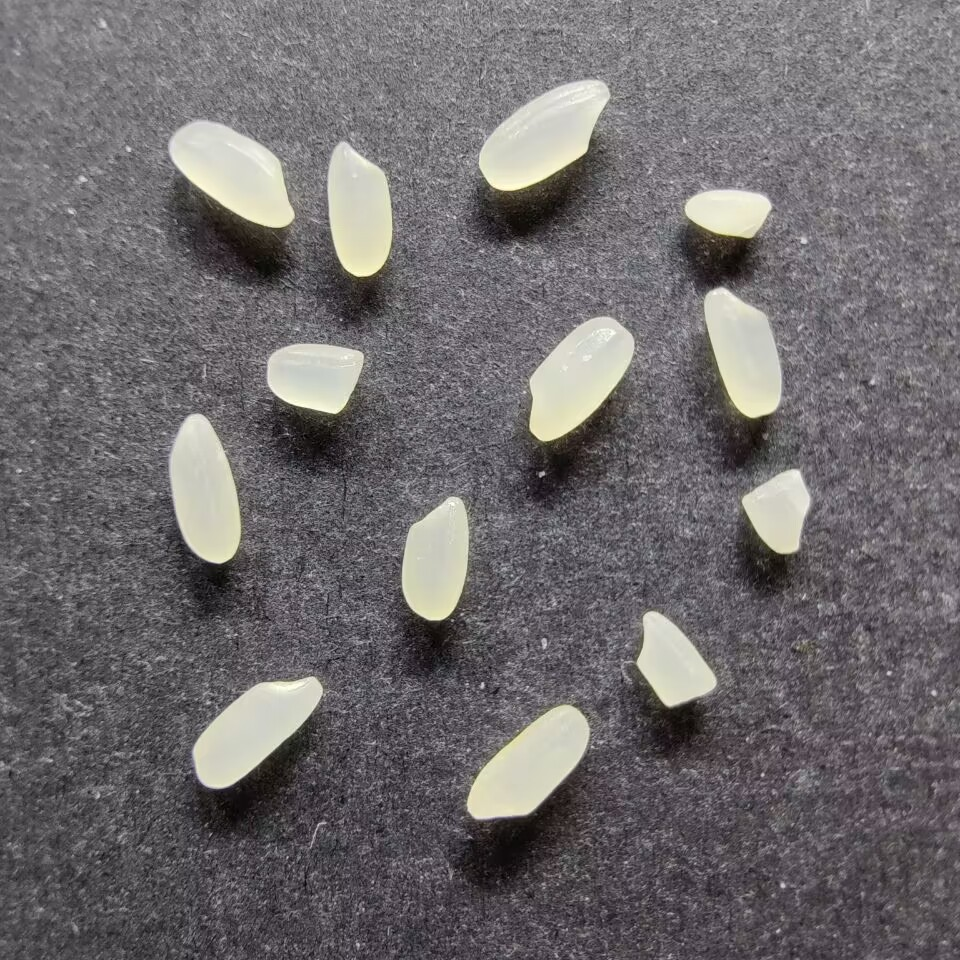broken: (633, 609, 718, 709), (264, 342, 365, 416), (740, 465, 813, 555), (683, 185, 773, 240)
rice: (189, 674, 325, 790), (475, 77, 610, 193), (466, 701, 592, 822), (166, 118, 297, 231), (525, 315, 638, 443), (165, 411, 243, 565), (702, 284, 784, 419), (324, 139, 394, 278), (398, 495, 471, 622)
